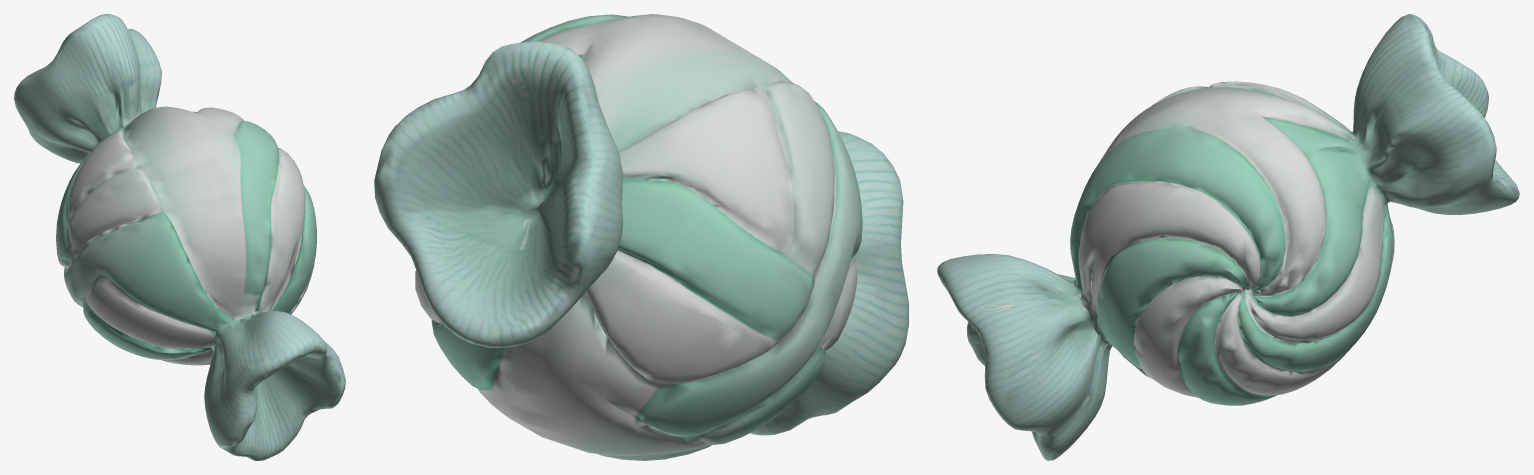
3 renders of one model, left to right at view 1: azimuth 30°, elevation 25°; view 2: azimuth 150°, elevation 25°; view 3: azimuth 270°, elevation 25°, orthographic. The views are drawn at different scales.
Parts seen in each view (by area): view 1: repaired; view 2: repaired; view 3: repaired.
Boxes of the visible parts, <box> form: repaired: <box>14,14,345,460</box>; repaired: <box>374,14,908,460</box>; repaired: <box>937,14,1519,460</box>.
Bounding box in the file's own units: 0.5406 × 0.8022 × 0.9997.
Materials: 1 (1 with a texture image).
